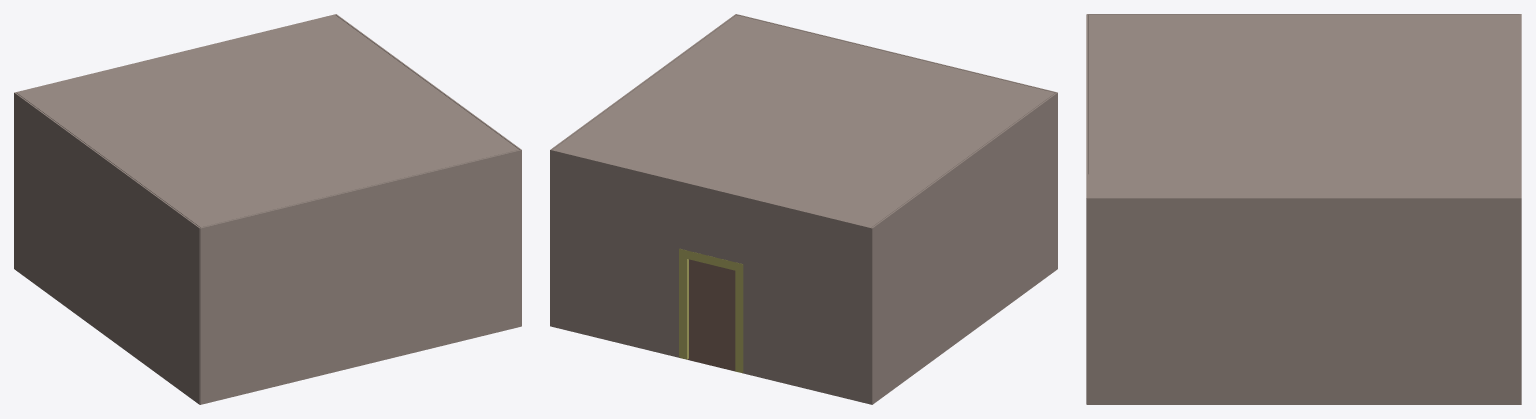
The model's file is Room12_CoalChute.fbx.
The picture shows the model from 3 angles, left to right: view 1: azimuth 30°, elevation 25°; view 2: azimuth 150°, elevation 25°; view 3: azimuth 270°, elevation 25°; orthographic projection. The views are drawn at different scales.
Visible parts, largest first — view 1: Roof, WallPosZ, WallPosX, WallNegX; view 2: Roof, WallSlicedNegZ, WallPosX, Floor, DoorFrameNegZ, WallNegX, WallPosZ; view 3: WallNegX, Roof, WallPosZ, WallPosX, WallSlicedNegZ.
Part boxes in pixels (box(x1,y1,x2,y2)): Roof: box(17, 15, 518, 227); WallPosZ: box(200, 149, 521, 404); WallPosX: box(14, 92, 200, 404); WallNegX: box(335, 14, 521, 325); Roof: box(553, 15, 1054, 227); WallSlicedNegZ: box(550, 149, 872, 404); WallPosX: box(870, 92, 1057, 404); Floor: box(679, 259, 742, 373); DoorFrameNegZ: box(679, 248, 743, 372); WallNegX: box(550, 14, 735, 326); WallPosZ: box(736, 14, 1057, 92); WallNegX: box(1087, 197, 1521, 404); Roof: box(1088, 15, 1519, 197); WallPosZ: box(1086, 14, 1088, 404); WallPosX: box(1087, 14, 1521, 174); WallSlicedNegZ: box(1519, 14, 1521, 197).
Size of the model in its own units: 802 by 420 by 801.
